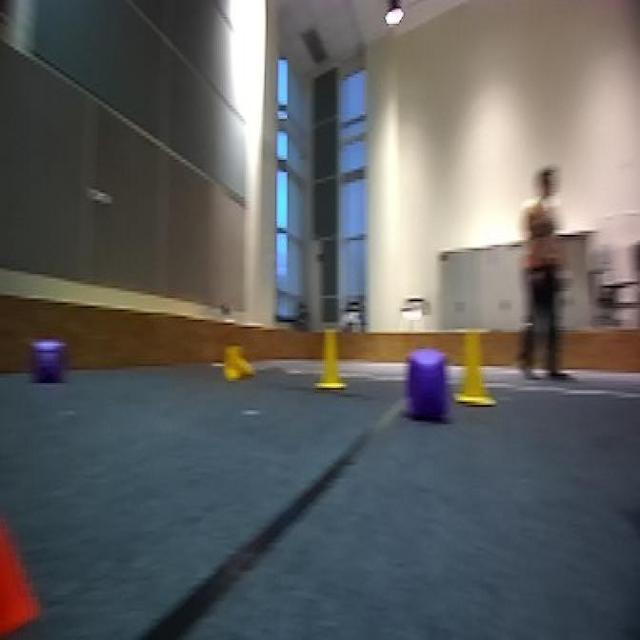frc_cone: (456, 332, 494, 410), (312, 325, 348, 390), (219, 342, 256, 383)
frc_cube: (408, 349, 450, 420), (34, 338, 61, 384)
